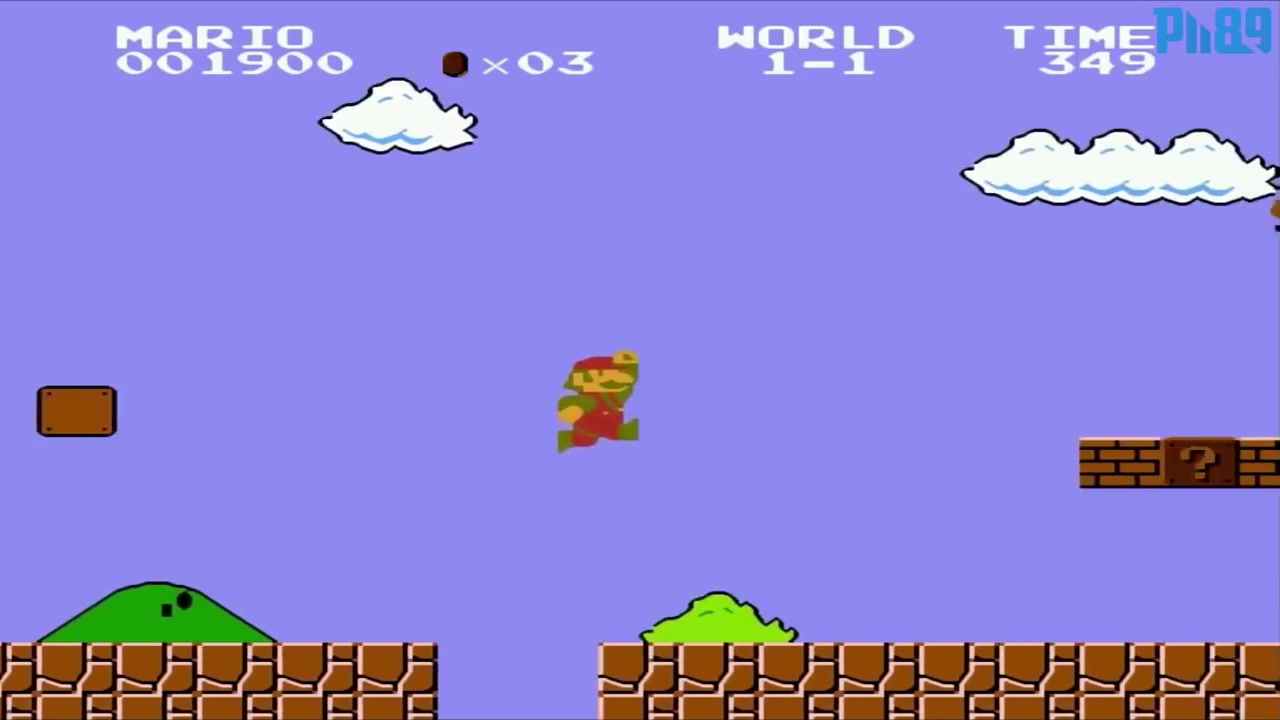mario: (552, 349, 652, 458)
